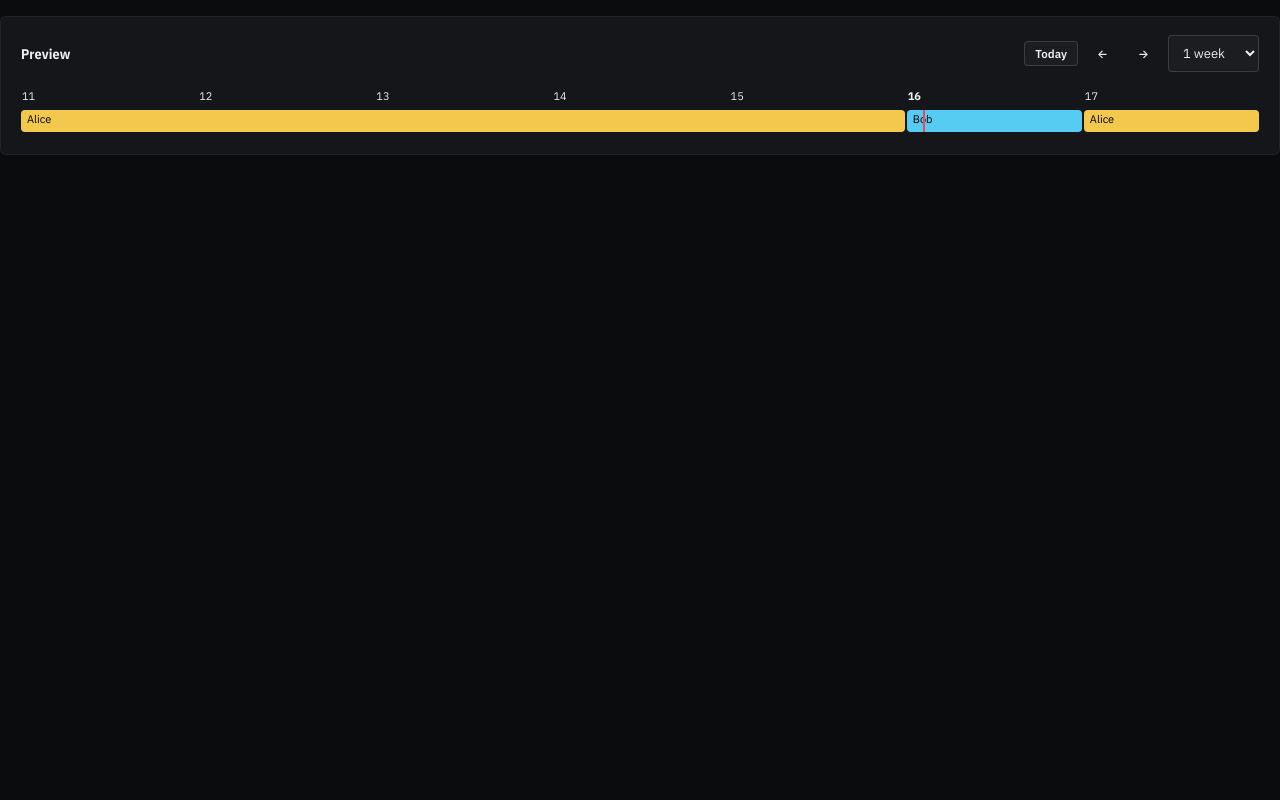
Test: OnCallTimeline › cancelling the remove confirmation leaves the override untouched
Click the button "16" at (994, 96), box [907,86,1082,106]
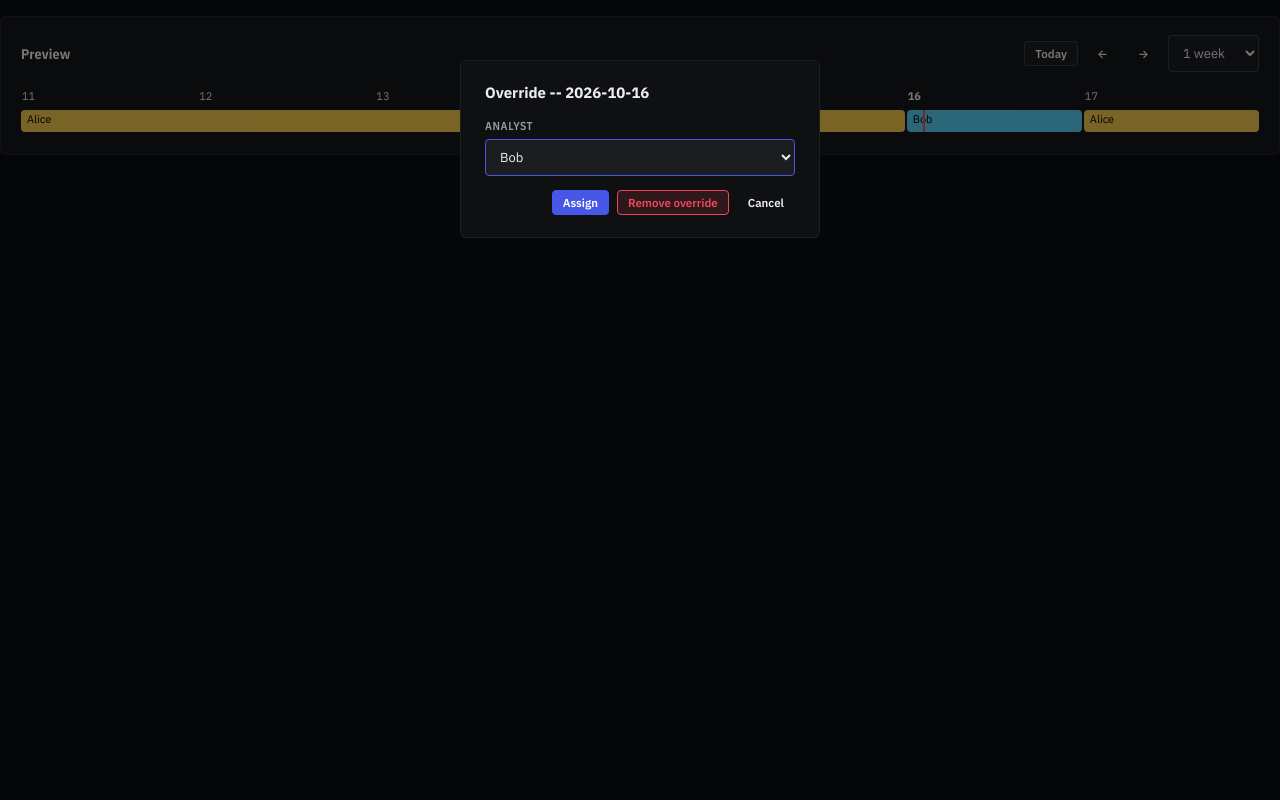
Click the button "Remove override" at (673, 202), box [617,190,729,215]
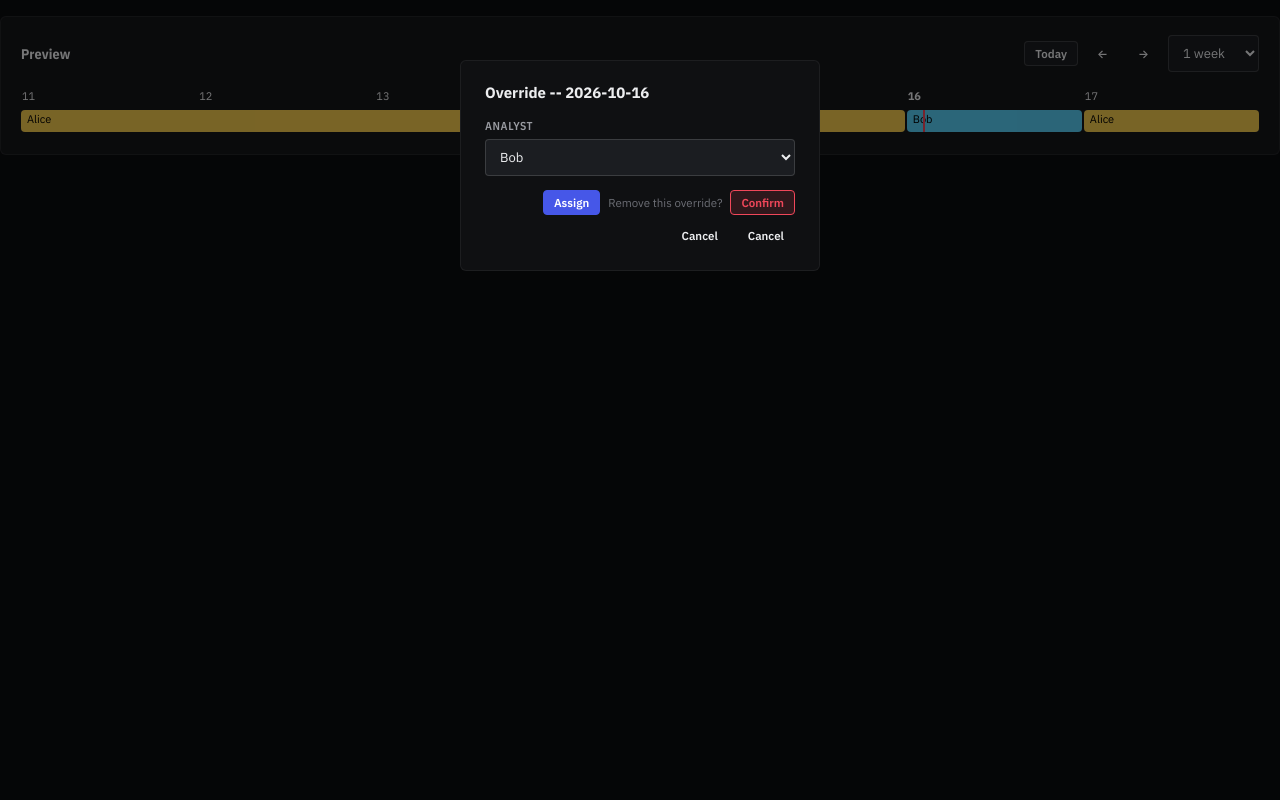
Click the 1st button "Cancel" at (700, 236), box [671,223,729,248]
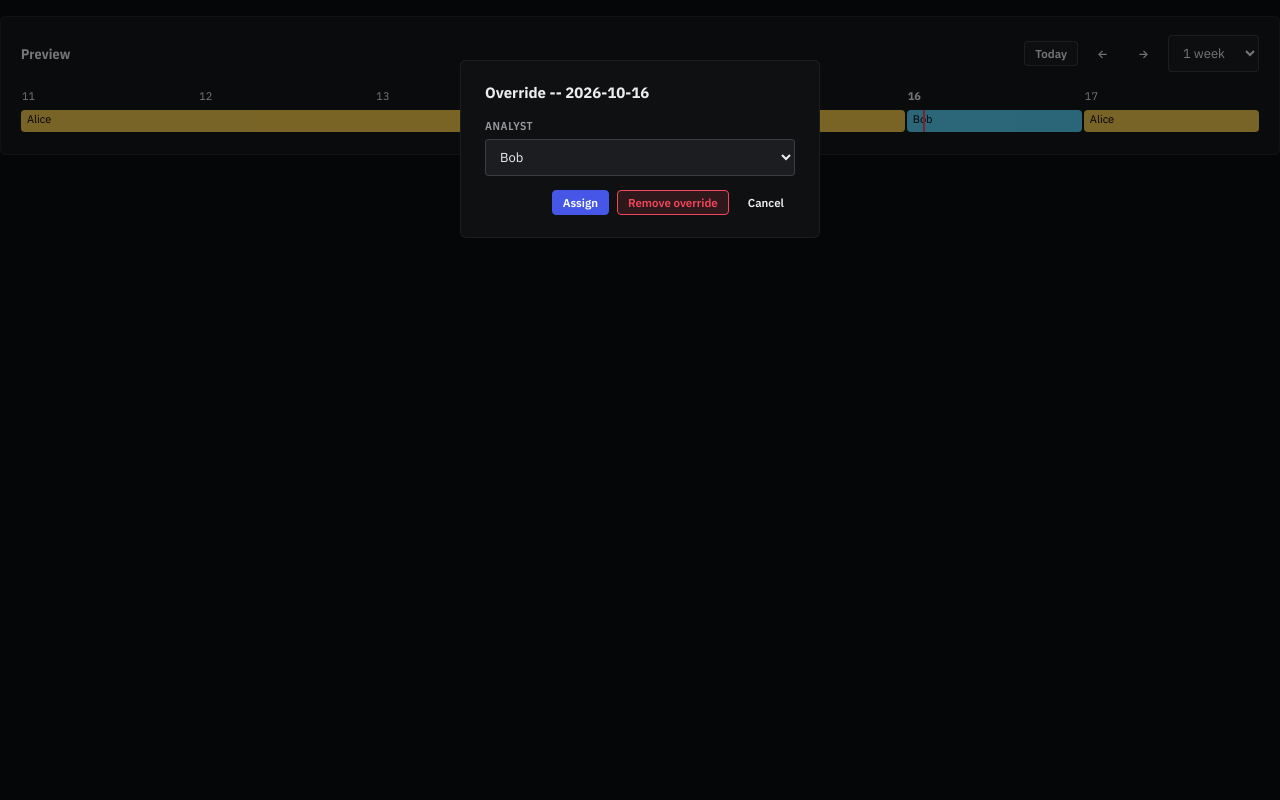
Check: the text "Remove this override?" is gone
Check: the button "Remove override" is shown, box [617,190,729,215]
